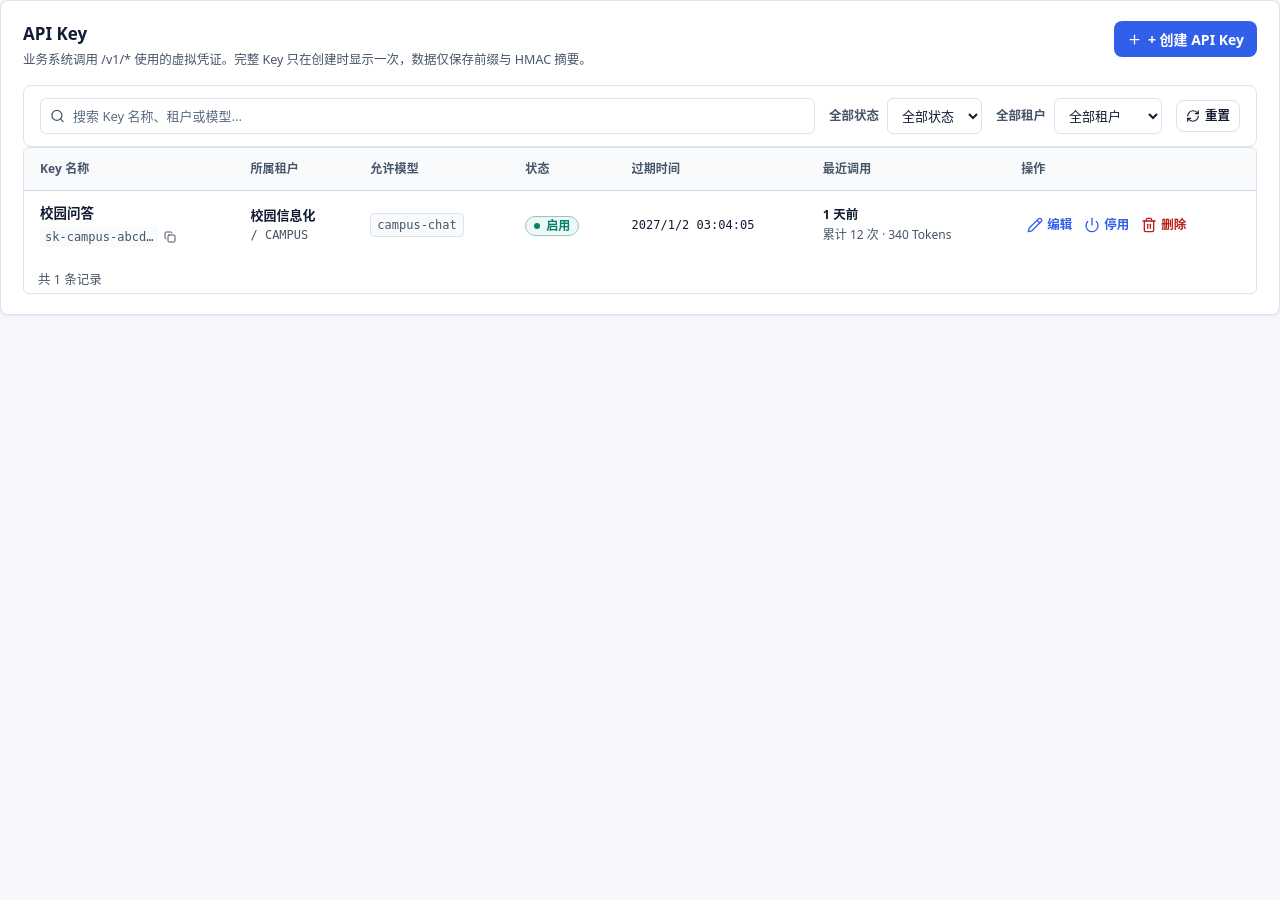
Test: ApiKeysPage secret handling › reveals the full key once after creation and keeps only the prefix afterwards
Click the button "+ 创建 API Key" at (1185, 39), box left=1114, top=21, right=1257, bottom=57
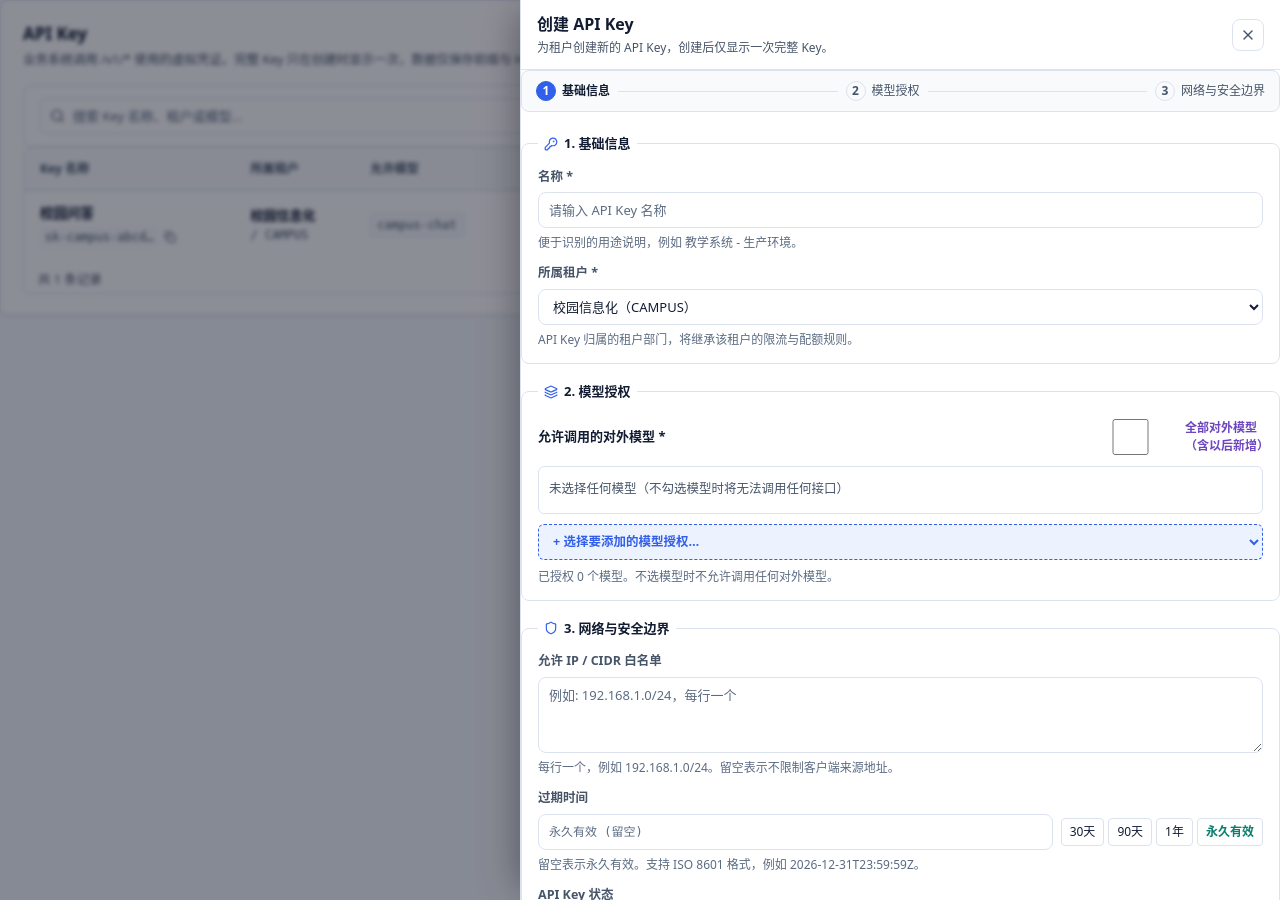
Type "教学系统" into the field with placeholder "请输入 API Key 名称" at (900, 210), box left=538, top=192, right=1263, bottom=228
(page scrolled)
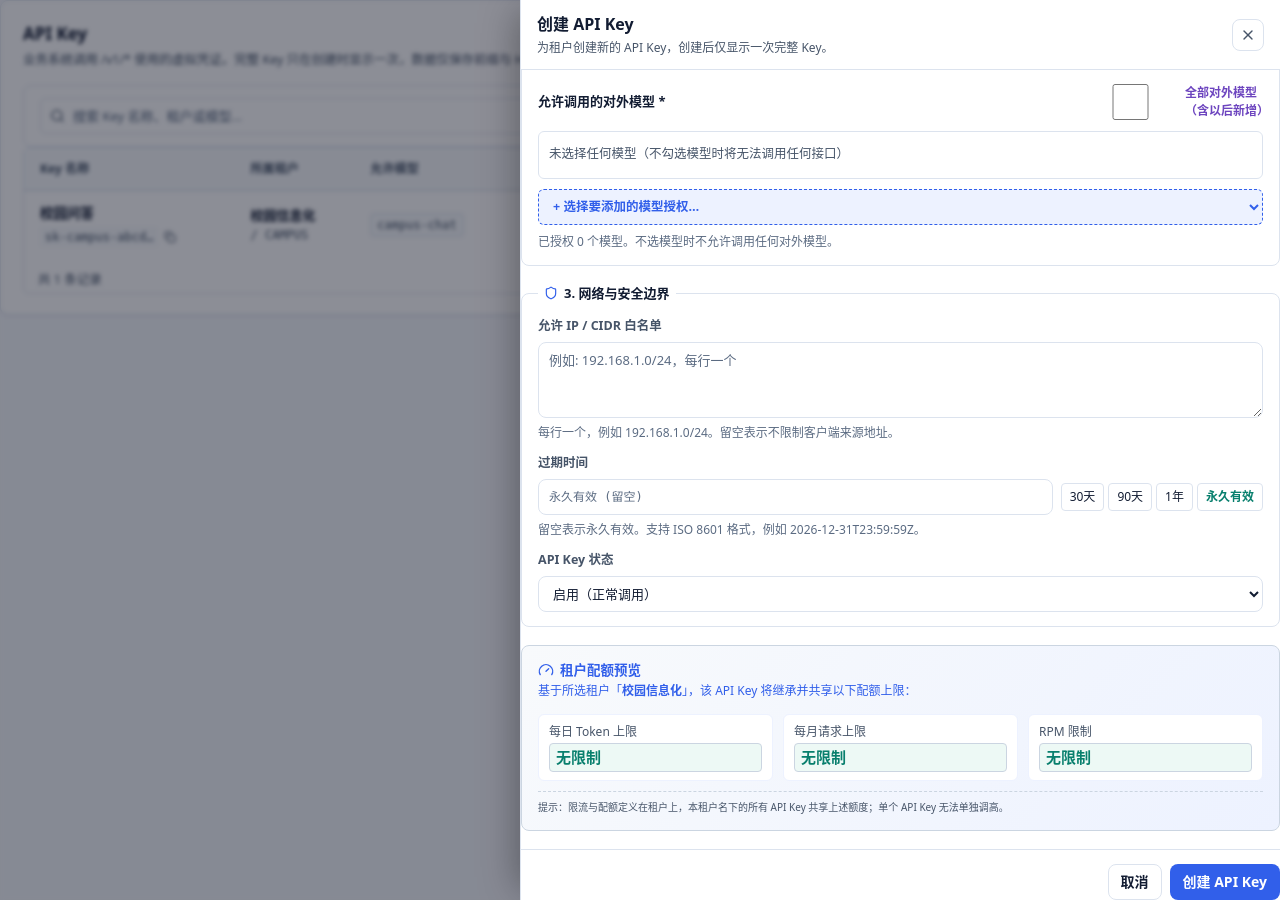
Click the button "创建 API Key" at (1225, 882), box left=1170, top=864, right=1279, bottom=899
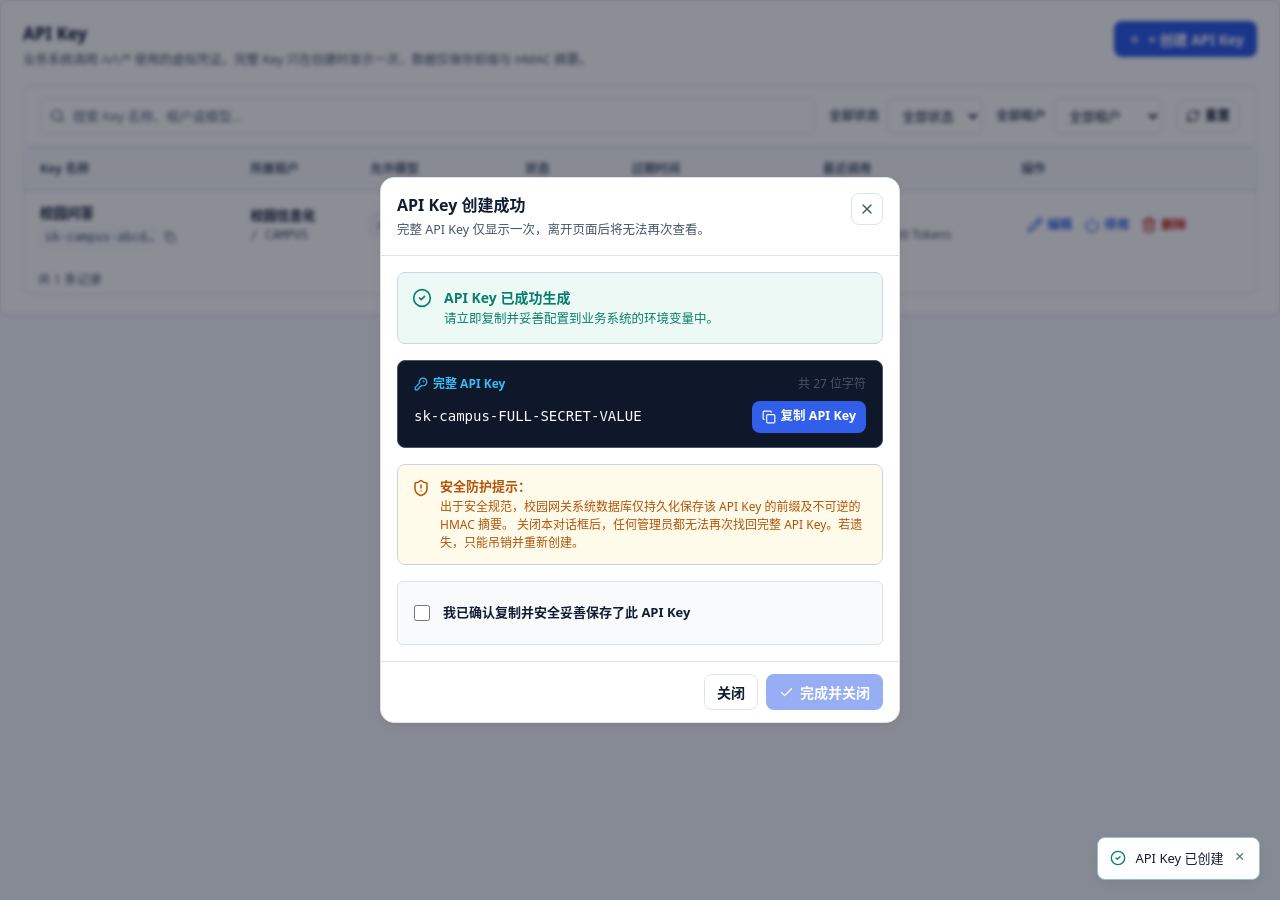
Check: the text "sk-campus-abcd…" is shown, box left=40, top=226, right=158, bottom=246
Check: the text "sk-campus-FULL-SECRET-VALUE" is shown, box left=414, top=406, right=642, bottom=427
Click the checkbox labelled "我已确认复制并安全妥善保存了此 API Key" at (422, 613), box left=414, top=595, right=430, bottom=631
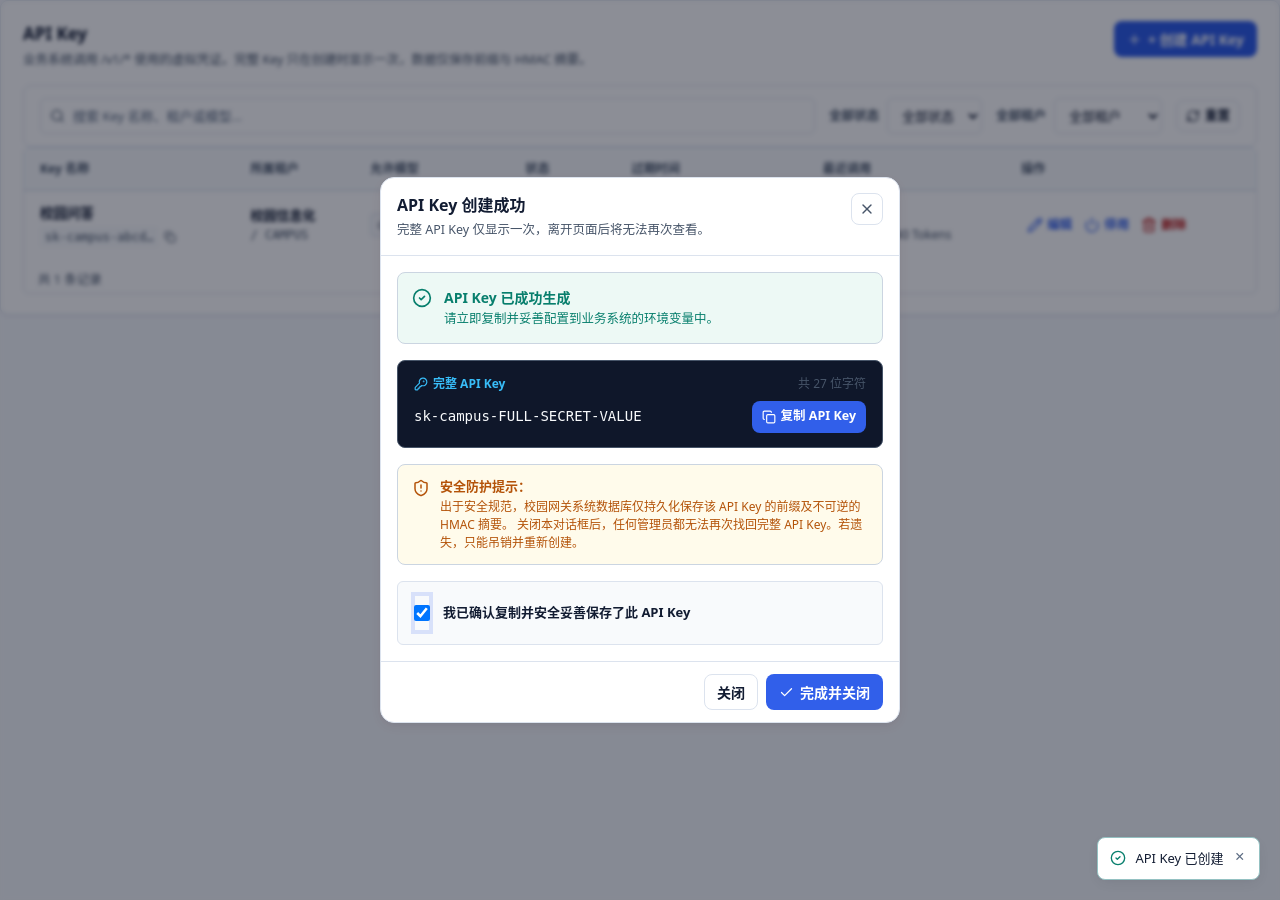
Click the button "完成并关闭" at (824, 692), box left=766, top=674, right=883, bottom=710
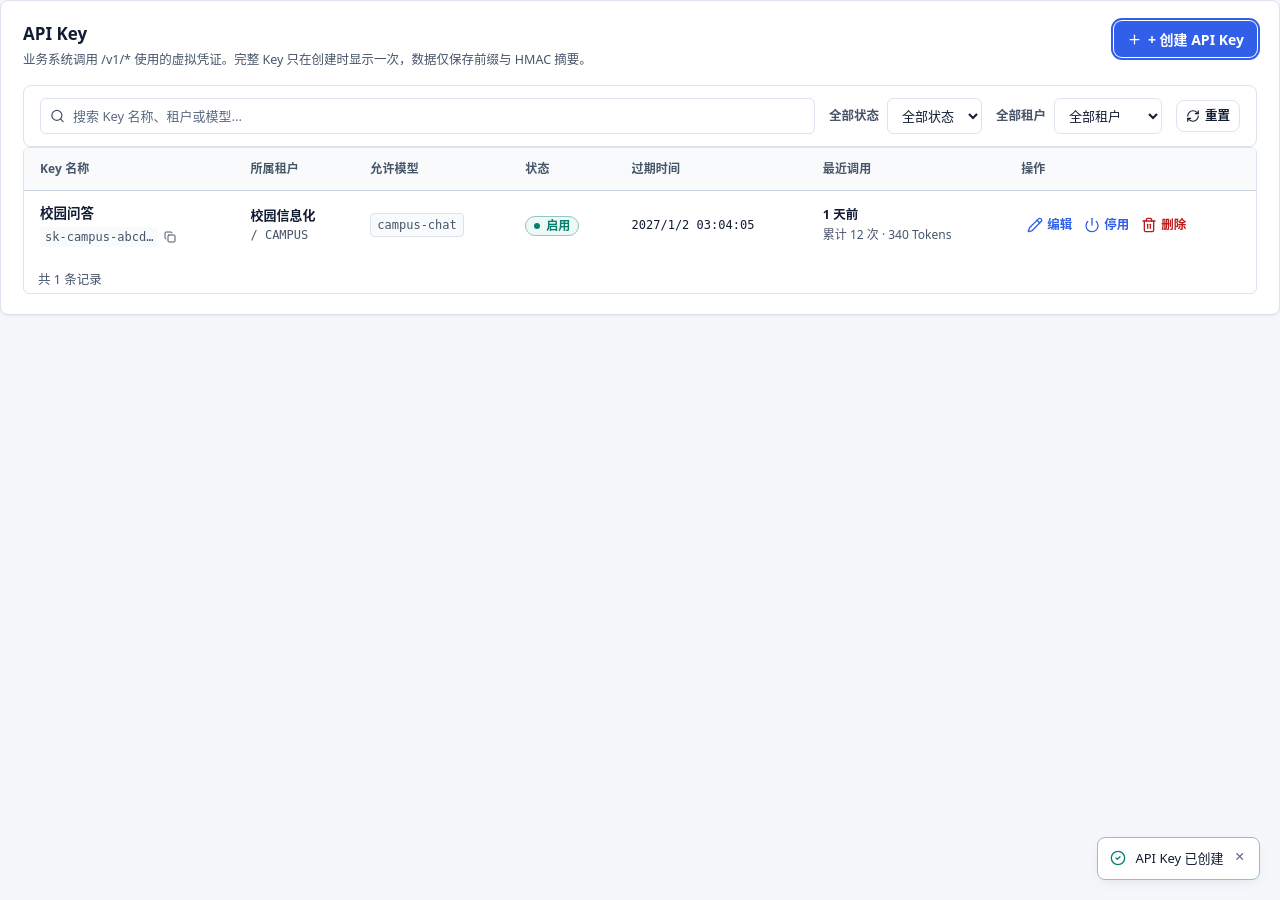
Check: the text "sk-campus-FULL-SECRET-VALUE" is gone
